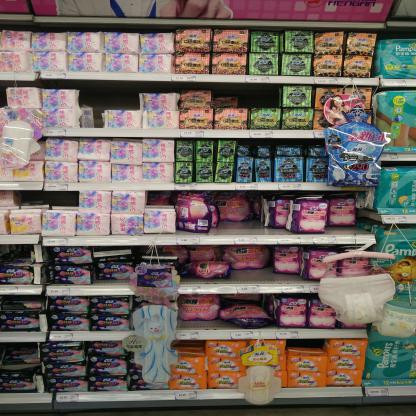Void: (215, 88, 282, 112), (82, 85, 138, 108), (21, 188, 80, 202), (234, 267, 280, 281), (188, 322, 224, 333), (286, 338, 316, 348), (178, 340, 201, 353), (247, 218, 266, 233), (144, 191, 169, 202), (215, 220, 237, 231)
